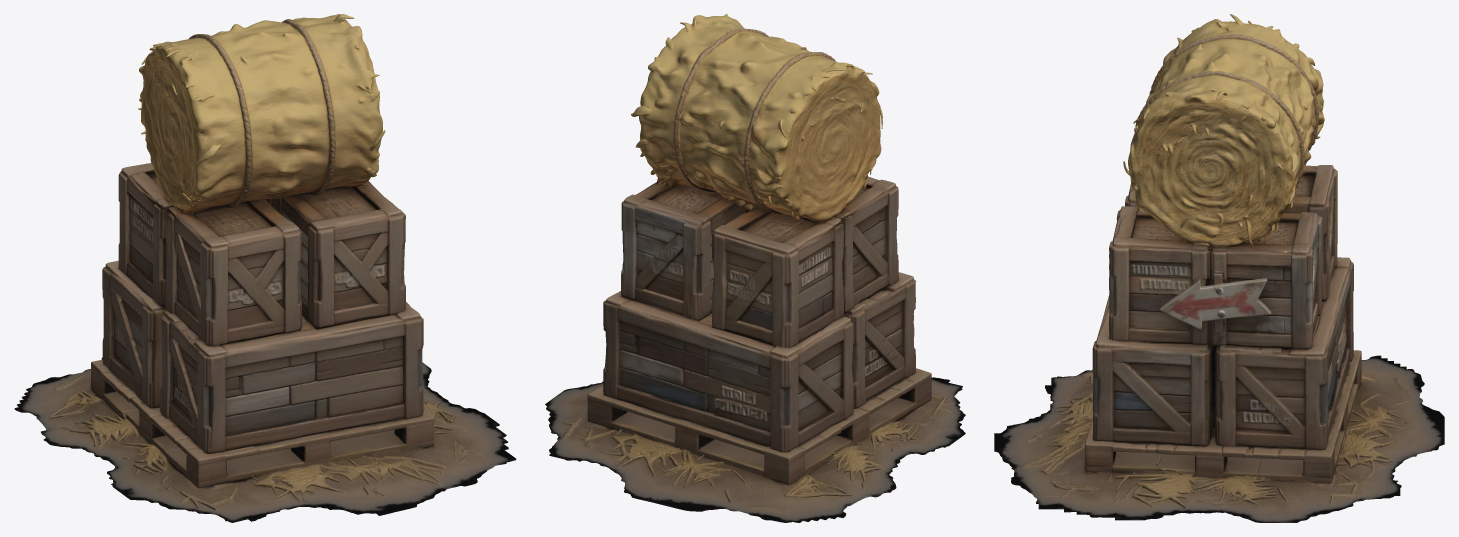
Rendered from straw+bale+3d+model.fbx.
3 views of the same model, side by side, from view 1: azimuth 30°, elevation 25°; view 2: azimuth 150°, elevation 25°; view 3: azimuth 270°, elevation 25° (orthographic). The views are drawn at different scales.
Visible parts, largest first — view 1: meshes[0]; view 2: meshes[0]; view 3: meshes[0].
Boxes of the visible parts, x1,y1,x2,y2 form: meshes[0]: [14, 14, 516, 522]; meshes[0]: [545, 14, 965, 522]; meshes[0]: [994, 14, 1444, 522].
Size of the model in its own units: 0.8983 by 0.9354 by 1.
Materials: 1 (1 with a texture image).
